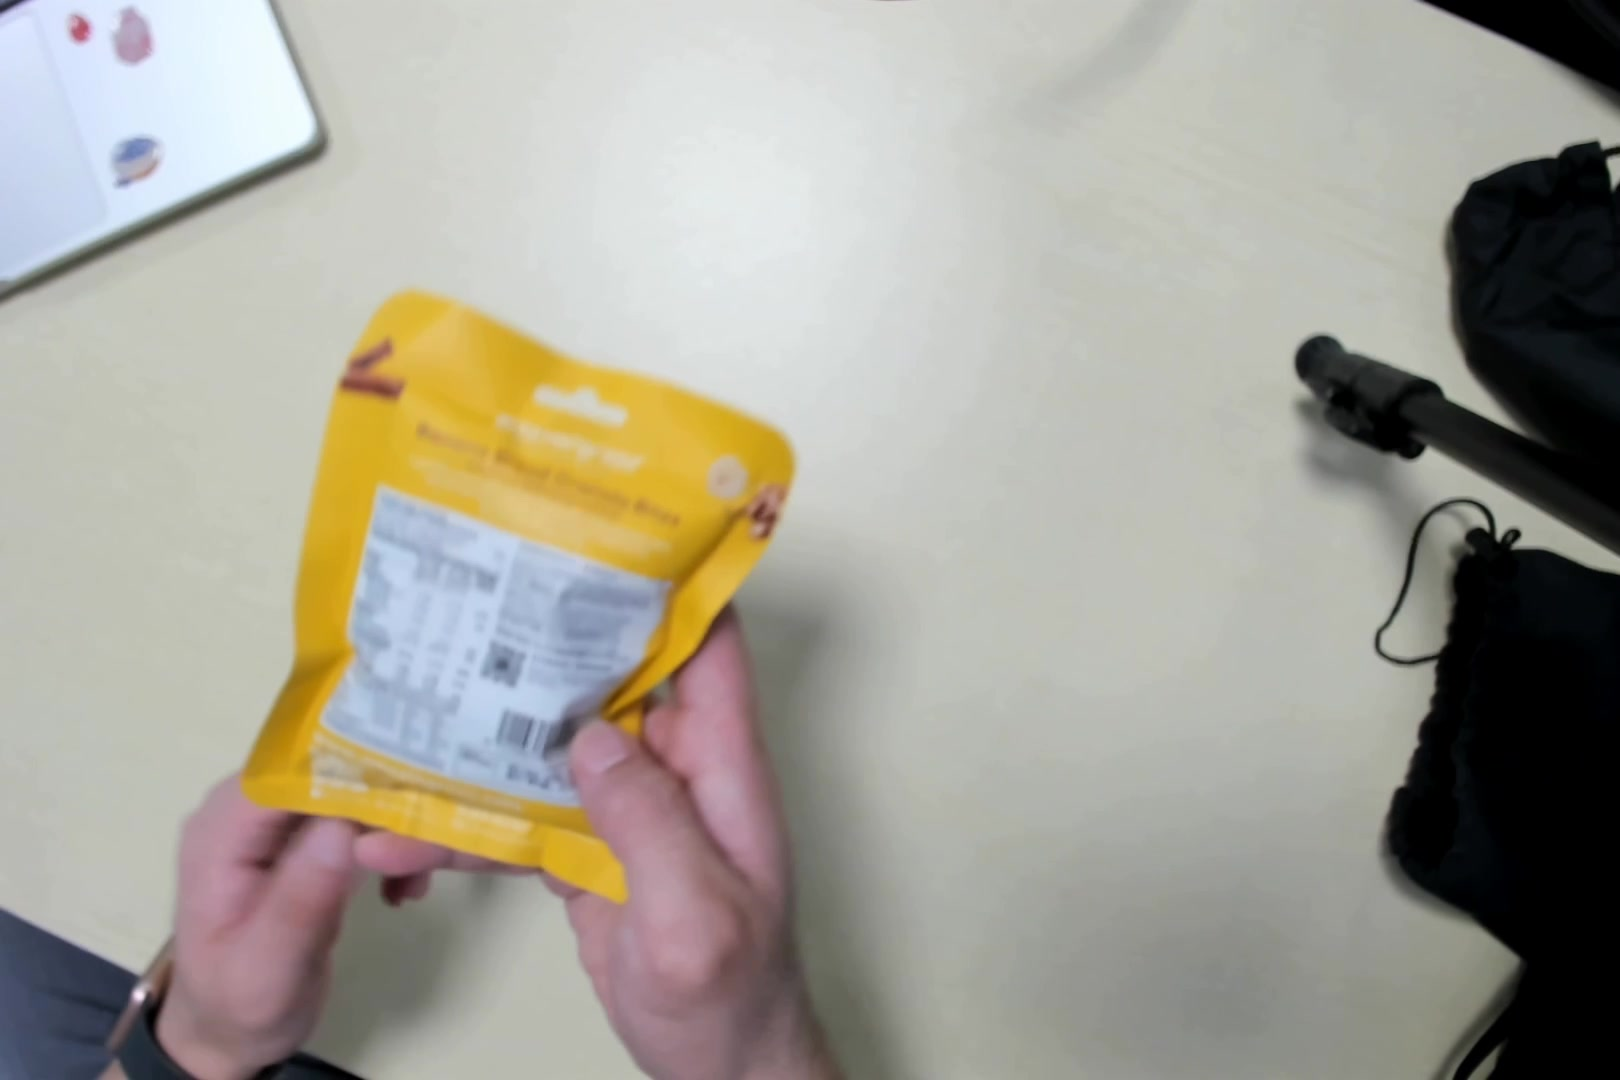BreakfastCereals_0-99g_NonHalal_NonHealthy: (277, 312, 735, 865)
